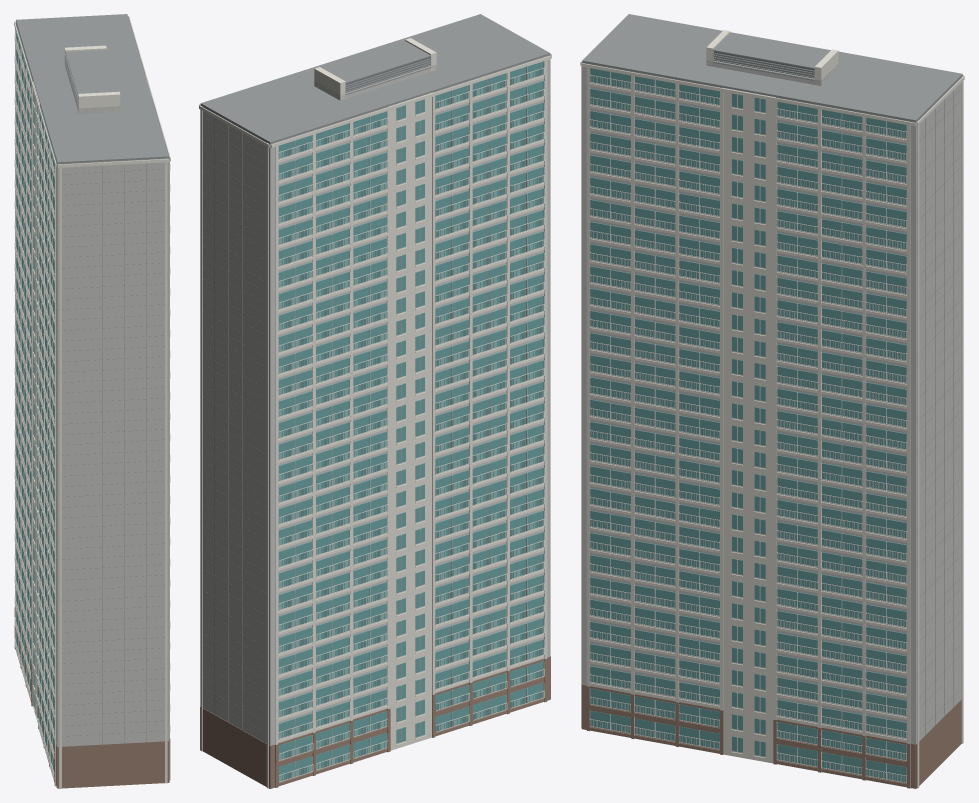
Rendered from bespoke-jamsil-els-163.glb.
3 renders of one model, left to right at view 1: azimuth 30°, elevation 25°; view 2: azimuth 150°, elevation 25°; view 3: azimuth 270°, elevation 25°, orthographic. The views are drawn at different scales.
Visible parts, largest first — view 1: Els163_editable_Els163_light_grey_solid_wall, Els163_editable_Els163_modest_grey_flat_roof_caps, Els163_editable_Els163_turquoise_balcony_glazing, Els163_white_exact_chunk_0, Els163_white_exact_chunk_3, Els163_white_exact_chunk_1, Els163_editable_Els163_muted_ground_wall, Els163_white_exact_chunk_2, Els163_white_exact_chunk_6, Els163_white_exact_chunk_4; view 2: Els163_editable_Els163_turquoise_balcony_glazing, Els163_editable_Els163_light_grey_solid_wall, Els163_white_exact_chunk_0, Els163_white_exact_chunk_1, Els163_editable_Els163_modest_grey_flat_roof_caps, Els163_white_exact_chunk_2, Els163_white_exact_chunk_3, Els163_editable_Els163_muted_ground_wall, Els163_white_exact_chunk_6; view 3: Els163_editable_Els163_turquoise_balcony_glazing, Els163_editable_Els163_light_grey_solid_wall, Els163_white_exact_chunk_3, Els163_white_exact_chunk_4, Els163_white_exact_chunk_5, Els163_editable_Els163_modest_grey_flat_roof_caps, Els163_white_exact_chunk_6, Els163_editable_Els163_muted_ground_wall, Els163_white_exact_chunk_0.
Part boxes in pixels (left/top/right/bottom): Els163_editable_Els163_light_grey_solid_wall: left=16, top=22, right=168, bottom=746; Els163_editable_Els163_modest_grey_flat_roof_caps: left=16, top=14, right=168, bottom=746; Els163_editable_Els163_turquoise_balcony_glazing: left=16, top=27, right=56, bottom=775; Els163_white_exact_chunk_0: left=14, top=21, right=39, bottom=722; Els163_white_exact_chunk_3: left=14, top=21, right=170, bottom=788; Els163_white_exact_chunk_1: left=15, top=28, right=43, bottom=741; Els163_editable_Els163_muted_ground_wall: left=14, top=607, right=170, bottom=788; Els163_white_exact_chunk_2: left=38, top=111, right=54, bottom=779; Els163_white_exact_chunk_6: left=64, top=16, right=170, bottom=161; Els163_white_exact_chunk_4: left=152, top=98, right=169, bottom=779; Els163_editable_Els163_turquoise_balcony_glazing: left=278, top=61, right=543, bottom=781; Els163_editable_Els163_light_grey_solid_wall: left=200, top=55, right=550, bottom=745; Els163_white_exact_chunk_0: left=199, top=92, right=432, bottom=788; Els163_white_exact_chunk_1: left=275, top=107, right=469, bottom=787; Els163_editable_Els163_modest_grey_flat_roof_caps: left=200, top=14, right=550, bottom=743; Els163_white_exact_chunk_2: left=435, top=73, right=544, bottom=720; Els163_white_exact_chunk_3: left=271, top=54, right=551, bottom=737; Els163_editable_Els163_muted_ground_wall: left=200, top=656, right=550, bottom=788; Els163_white_exact_chunk_6: left=199, top=38, right=436, bottom=105; Els163_editable_Els163_turquoise_balcony_glazing: left=590, top=68, right=906, bottom=782; Els163_editable_Els163_light_grey_solid_wall: left=582, top=60, right=962, bottom=744; Els163_white_exact_chunk_3: left=580, top=43, right=963, bottom=763; Els163_white_exact_chunk_4: left=586, top=64, right=817, bottom=767; Els163_white_exact_chunk_5: left=776, top=102, right=906, bottom=783; Els163_editable_Els163_modest_grey_flat_roof_caps: left=582, top=14, right=962, bottom=741; Els163_white_exact_chunk_6: left=581, top=30, right=915, bottom=787; Els163_editable_Els163_muted_ground_wall: left=581, top=684, right=961, bottom=788; Els163_white_exact_chunk_0: left=917, top=76, right=964, bottom=788.
Bounding box in the file's own units: 28.67 × 85 × 43.13.
